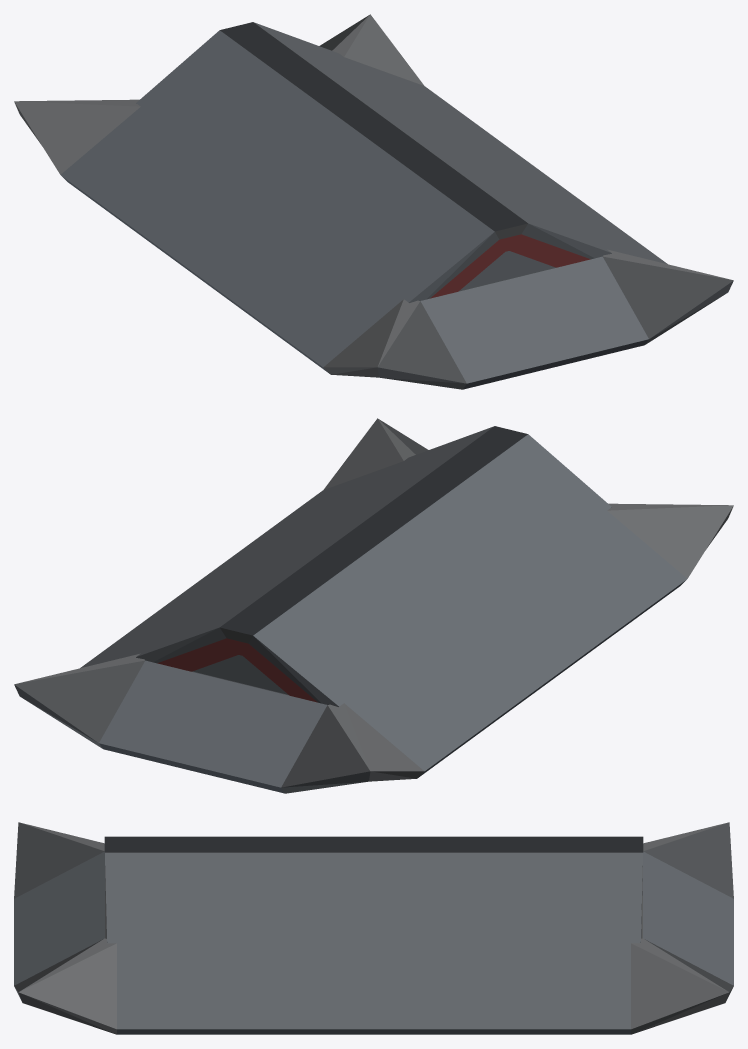
The model's file is BuildingA-Ext_RoofLOD2.fbx.
The picture shows the model from 3 angles, top to bottom: view 1: azimuth 30°, elevation 25°; view 2: azimuth 150°, elevation 25°; view 3: azimuth 270°, elevation 25°; orthographic projection. The views are drawn at different scales.
Parts seen in each view (by area): view 1: BuildingA-Ext_RoofLOD2; view 2: BuildingA-Ext_RoofLOD2; view 3: BuildingA-Ext_RoofLOD2.
Part boxes in pixels (x1,y1,x2,y2): BuildingA-Ext_RoofLOD2: (14,14,733,389); BuildingA-Ext_RoofLOD2: (14,418,733,793); BuildingA-Ext_RoofLOD2: (14,822,733,1034).
Size of the model in its own units: 1000 by 286 by 1750.
